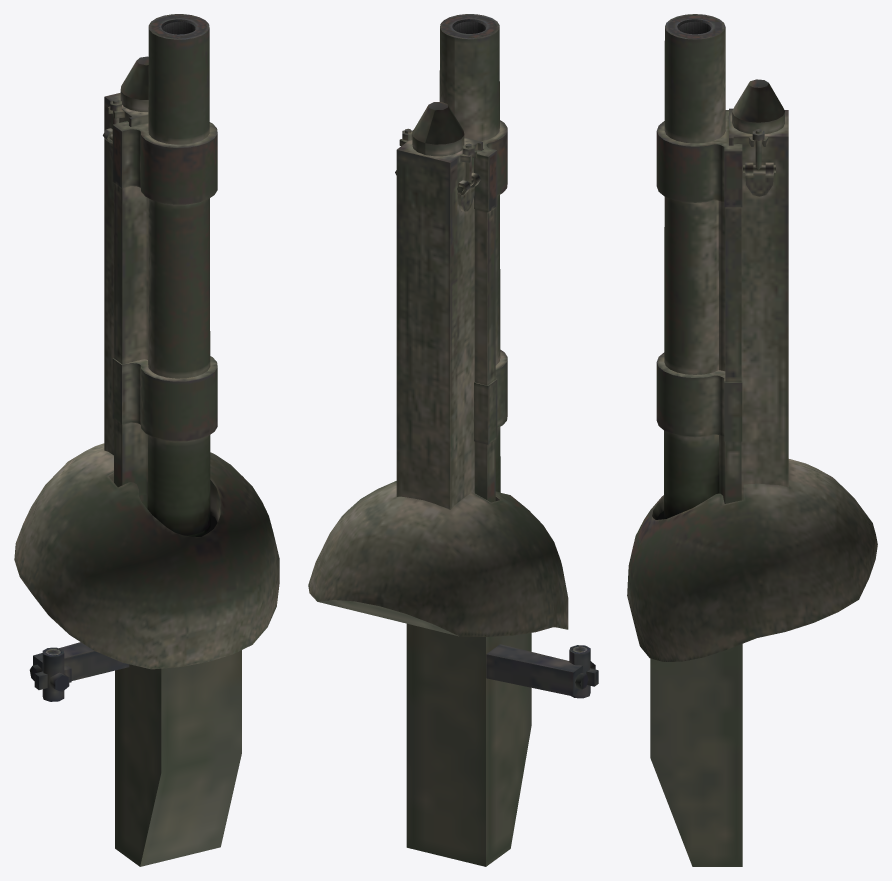
Rendered from Gun_01.glb.
3 views of the same model, side by side, from view 1: azimuth 30°, elevation 25°; view 2: azimuth 150°, elevation 25°; view 3: azimuth 270°, elevation 25° (orthographic).
Visible parts, largest first — view 1: set_0_group_0; view 2: set_0_group_0; view 3: set_0_group_0.
Boxes of the visible parts, left/top/right/bottom form: set_0_group_0: left=14, top=14, right=279, bottom=866; set_0_group_0: left=308, top=14, right=598, bottom=866; set_0_group_0: left=627, top=14, right=877, bottom=866.
Bounding box in the file's own units: 0.6651 × 2.09 × 0.5784.
1 material, 1 textured.
